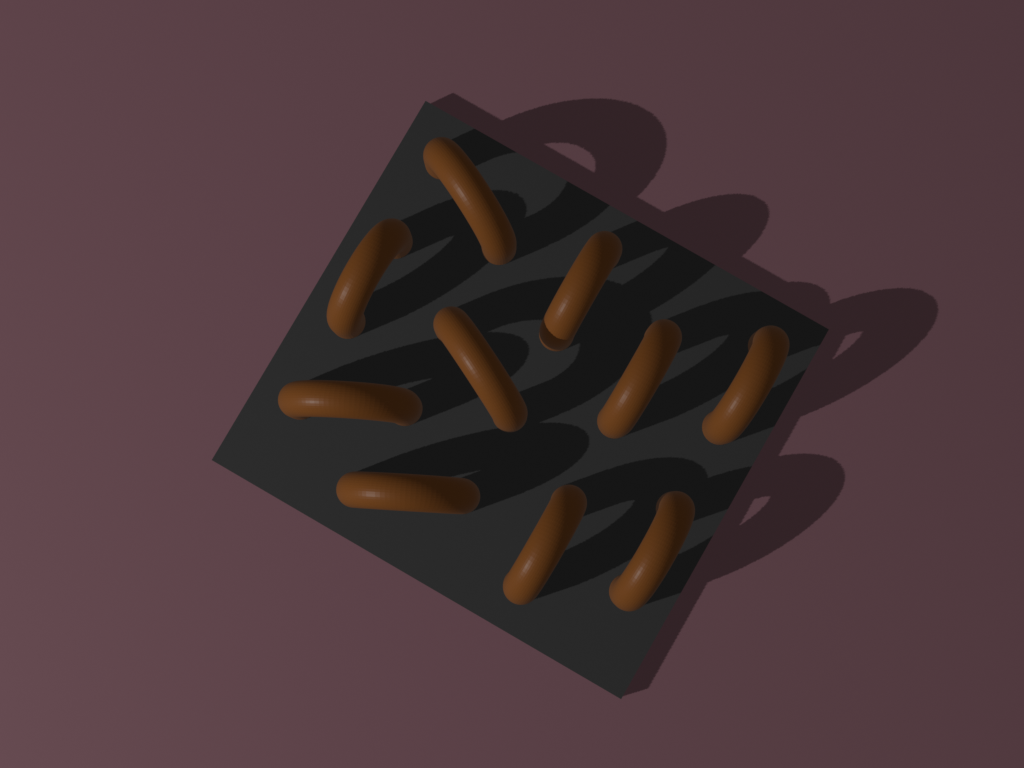return-bend: (405, 280, 549, 448), (400, 113, 543, 281), (520, 202, 644, 376), (690, 294, 814, 468), (303, 185, 427, 358), (578, 289, 702, 462), (482, 454, 606, 627), (591, 467, 715, 640), (323, 461, 486, 527), (269, 371, 433, 436)
